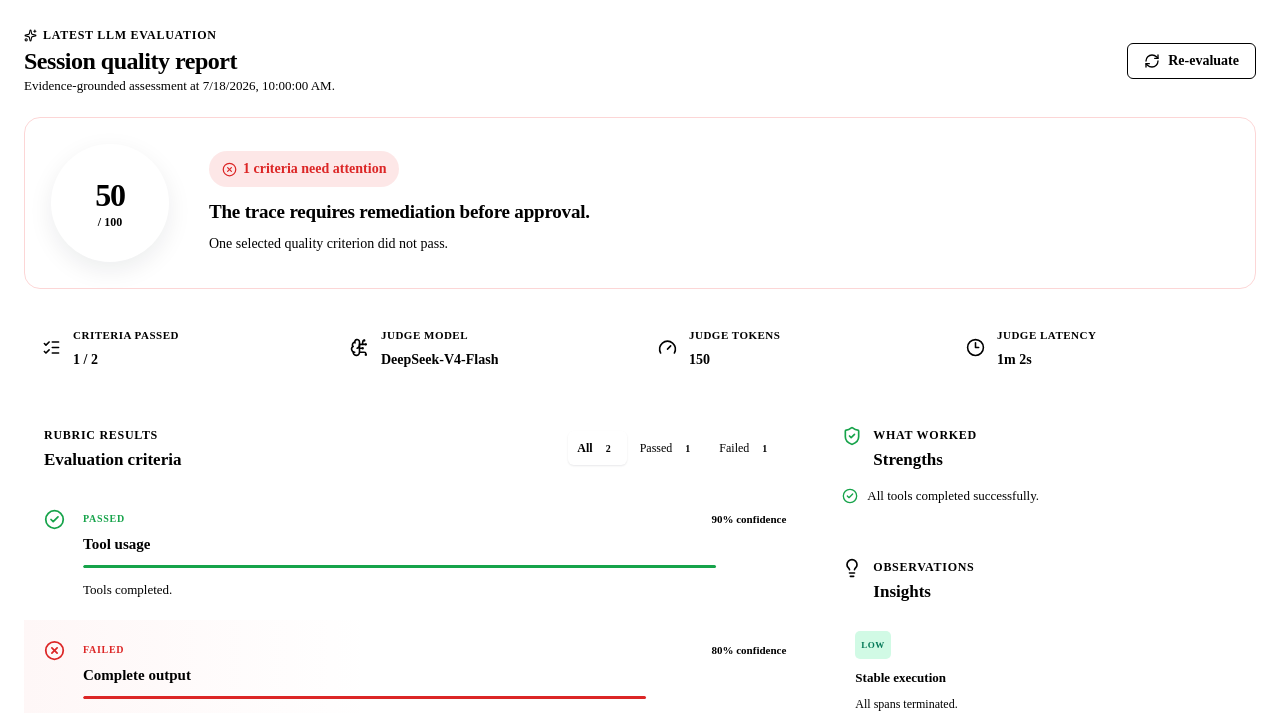
renders a structured quality report and filters failed criteria
The image size is (1280, 713).
Check: the heading "Session quality report" is shown, box [24,48,237,74]
Check: the text "50" is shown, box [95,178,125,210]
What coordinates should you click on to do the following:
click the button "Failed 1"
I would click on:
 (747, 448)
Its box is [710,430,783,464].
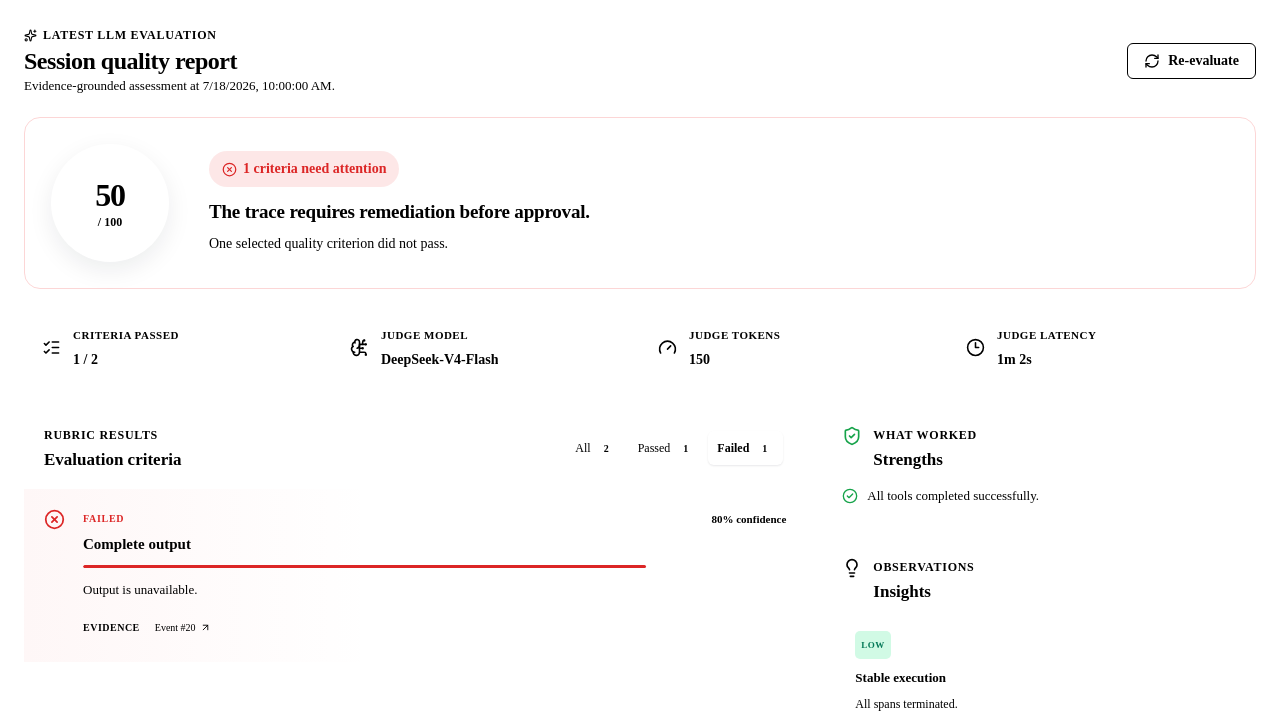
Check: the heading "Complete output" is shown, box [83,533,191,555]
Check: the heading "Tool usage" is gone
